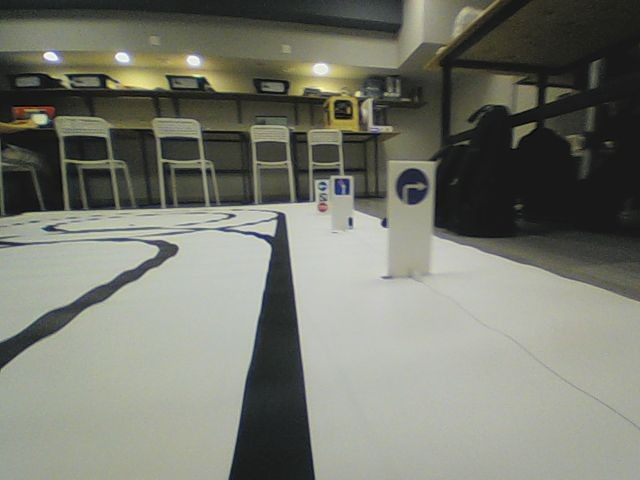Right: (394, 167, 429, 207)
priority_movement: (333, 177, 350, 196)
